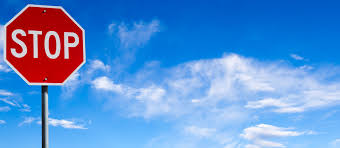SS: (2, 6, 86, 86)
